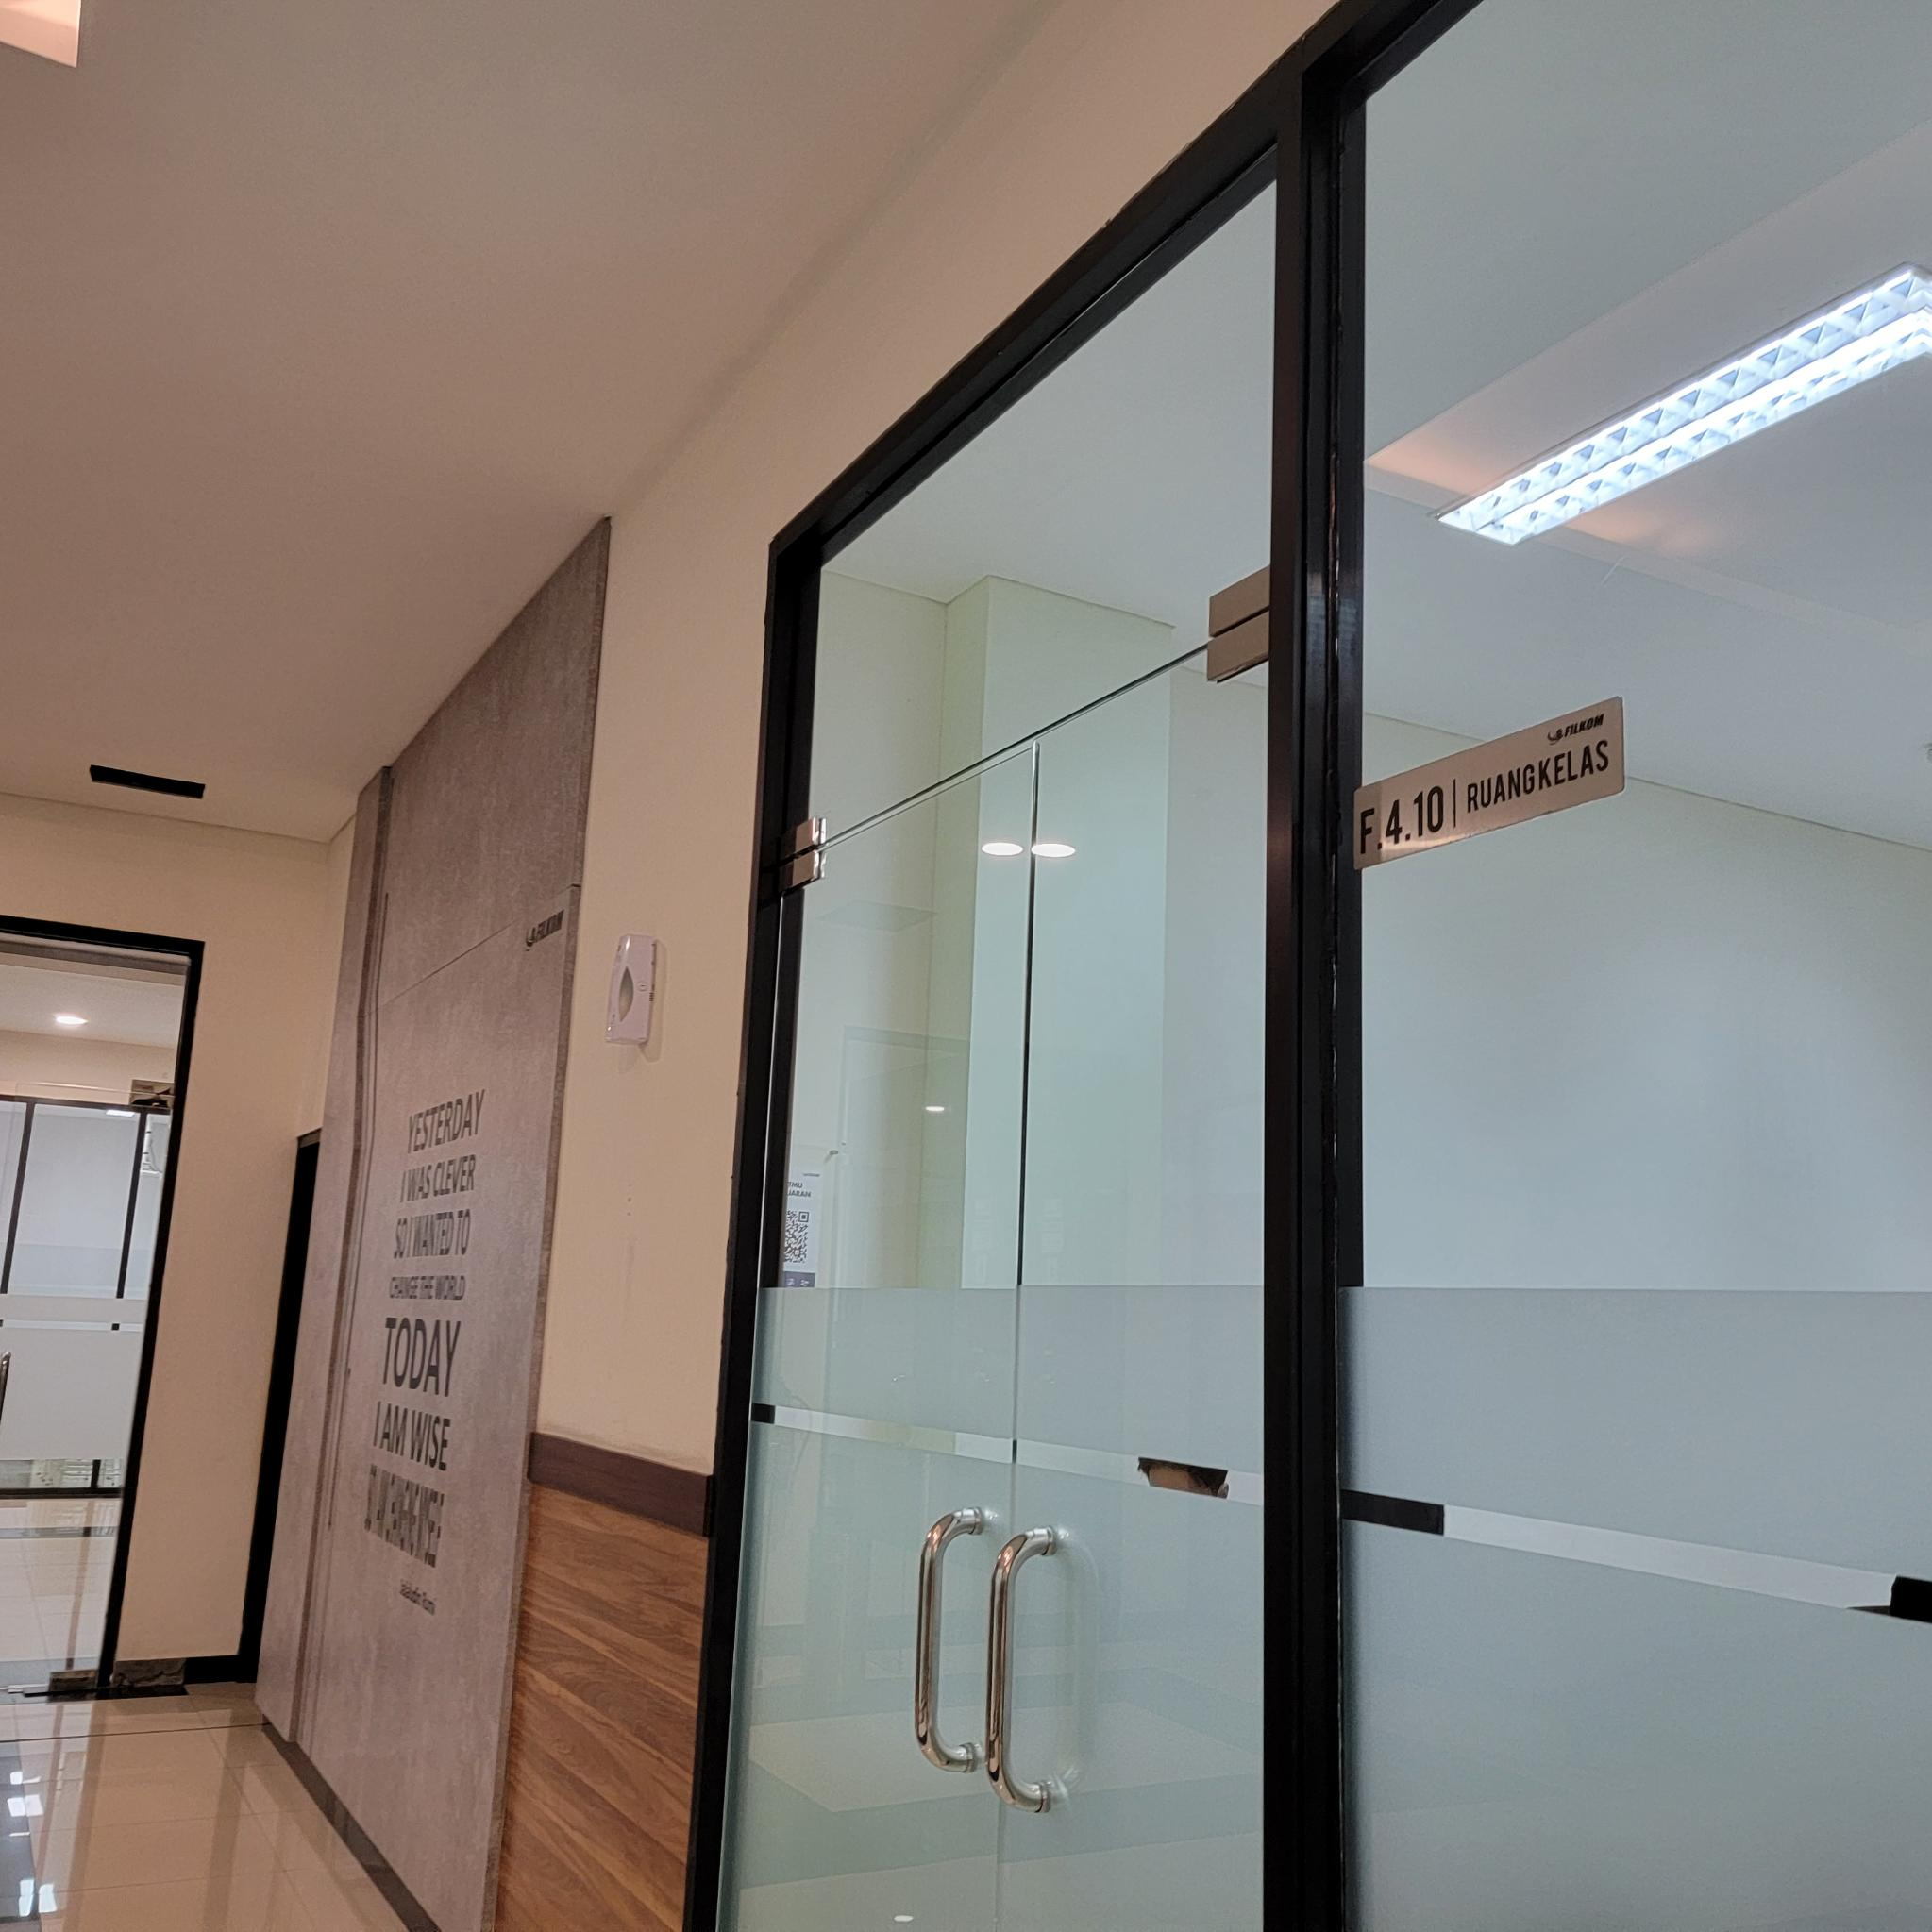plate: (1352, 697, 1626, 872)
